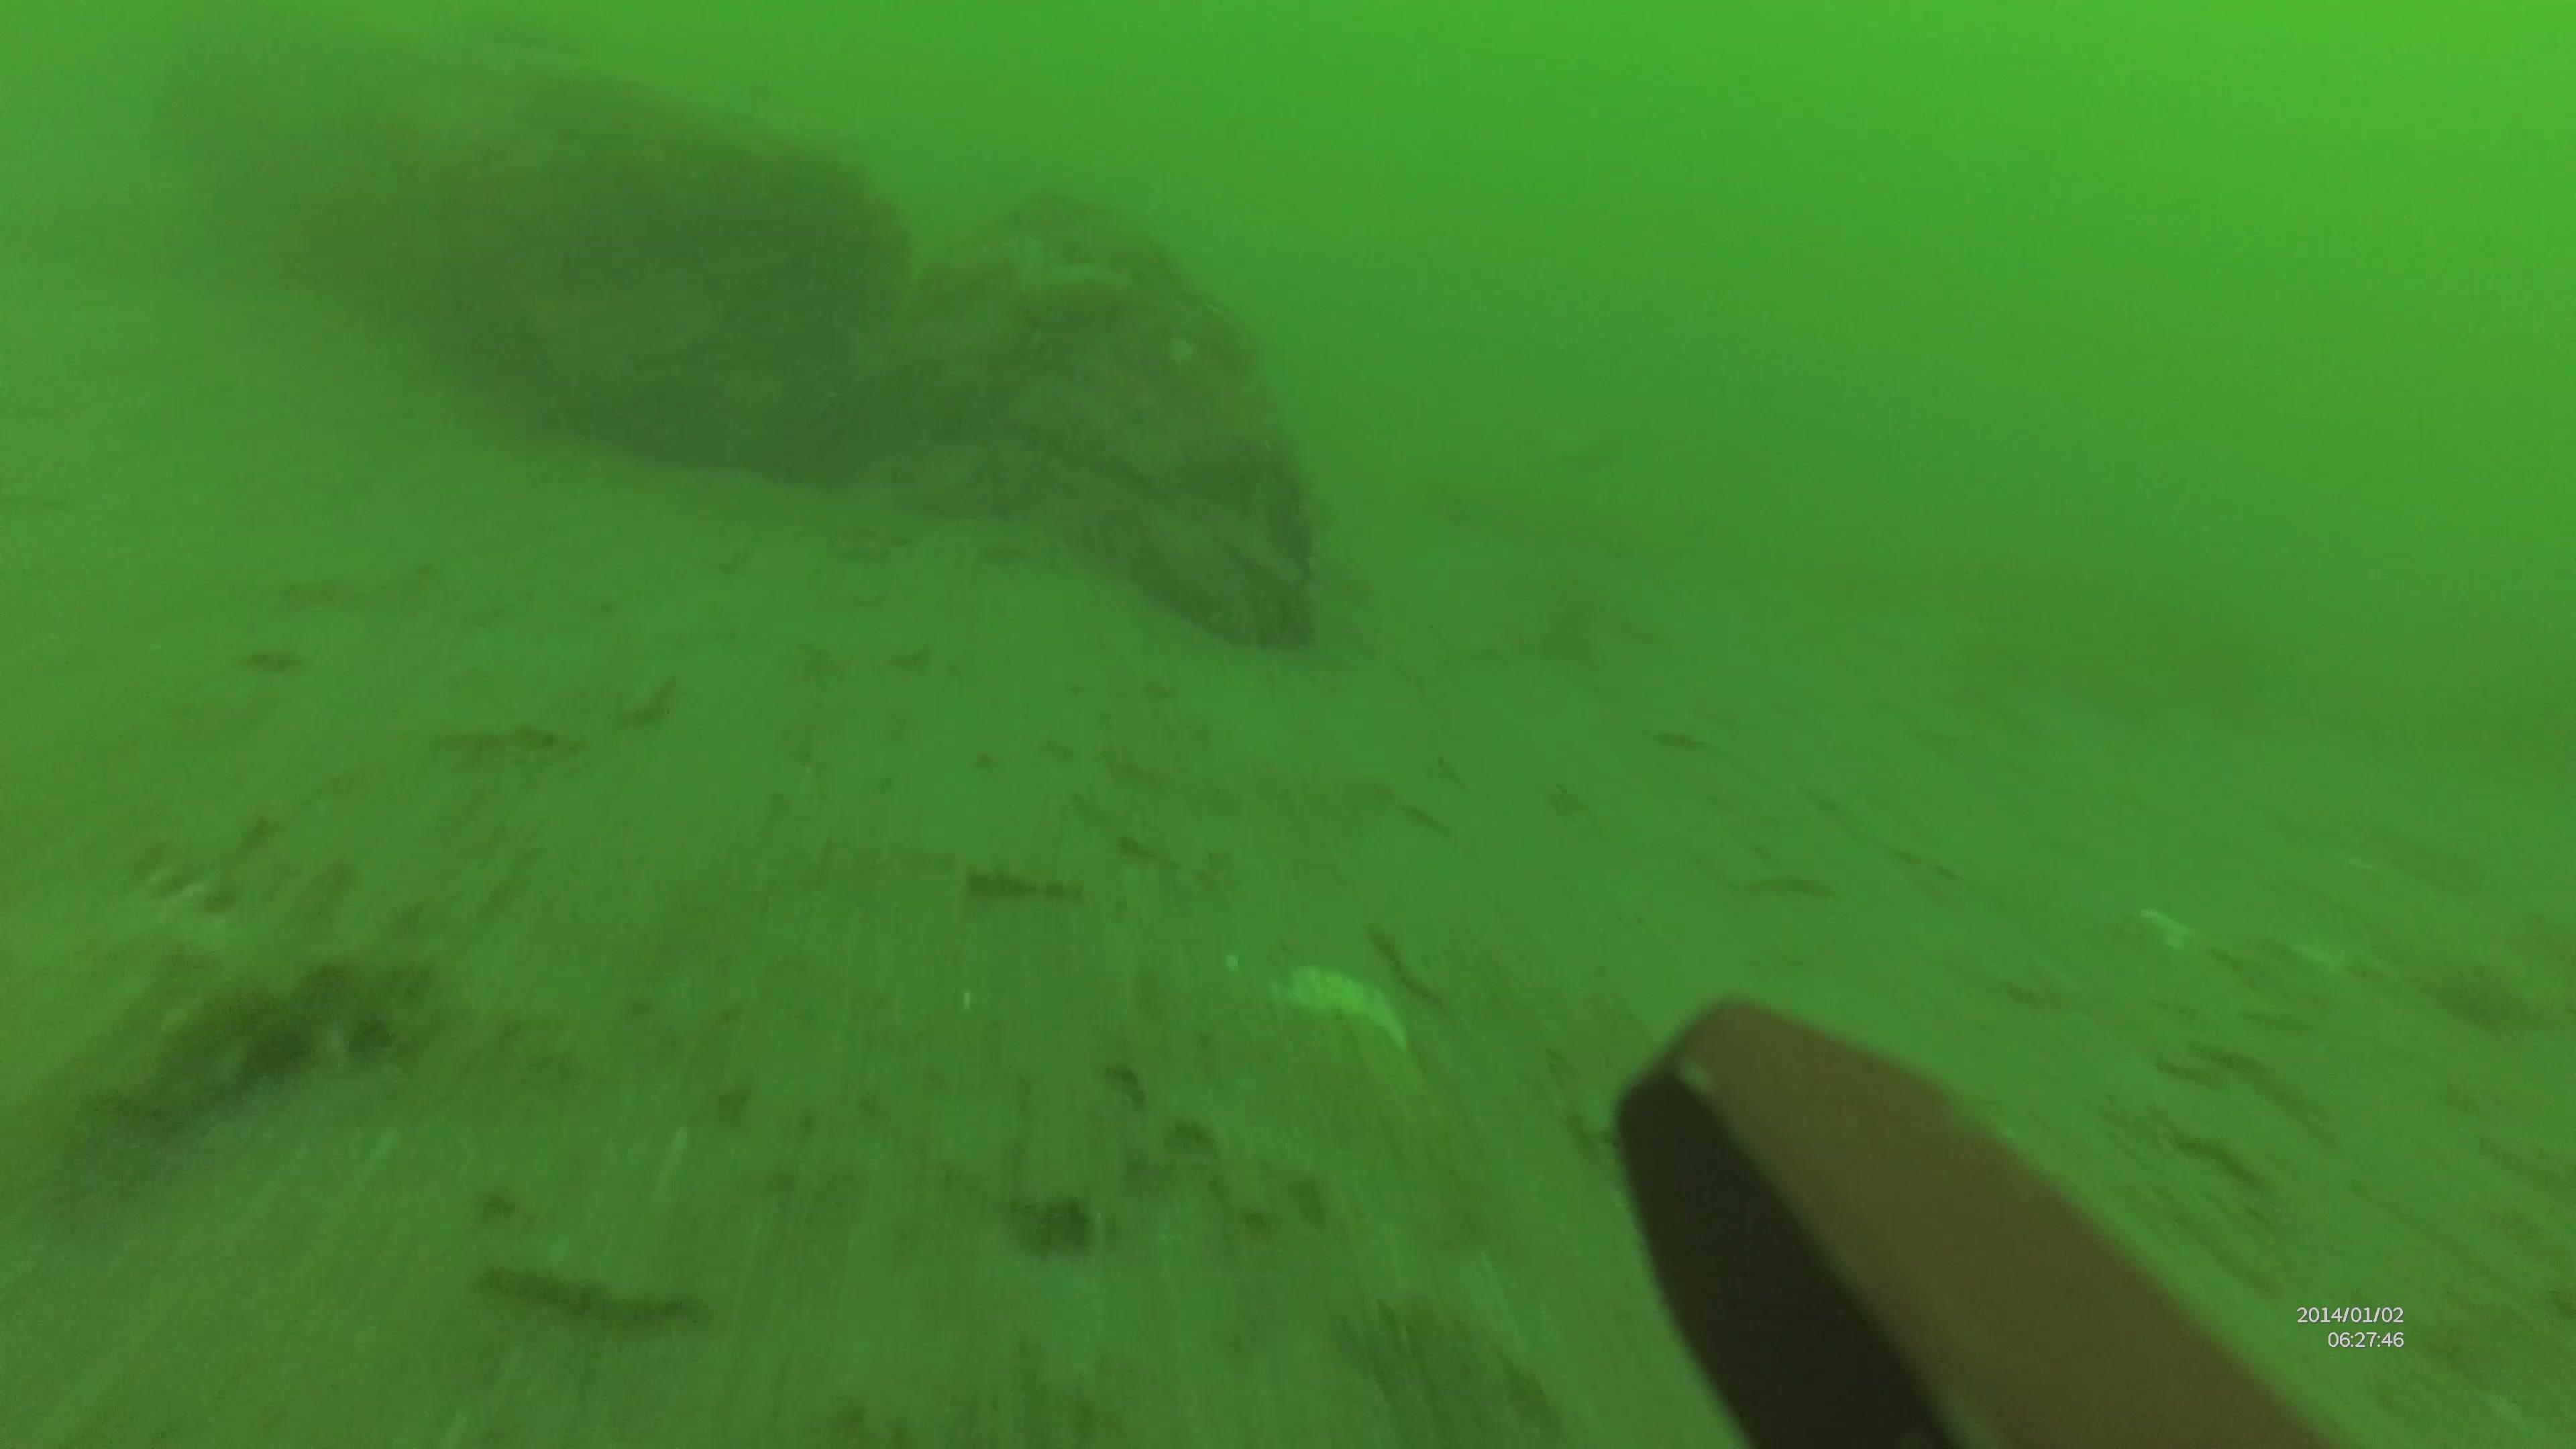holothurian: (0, 821, 435, 1113)
